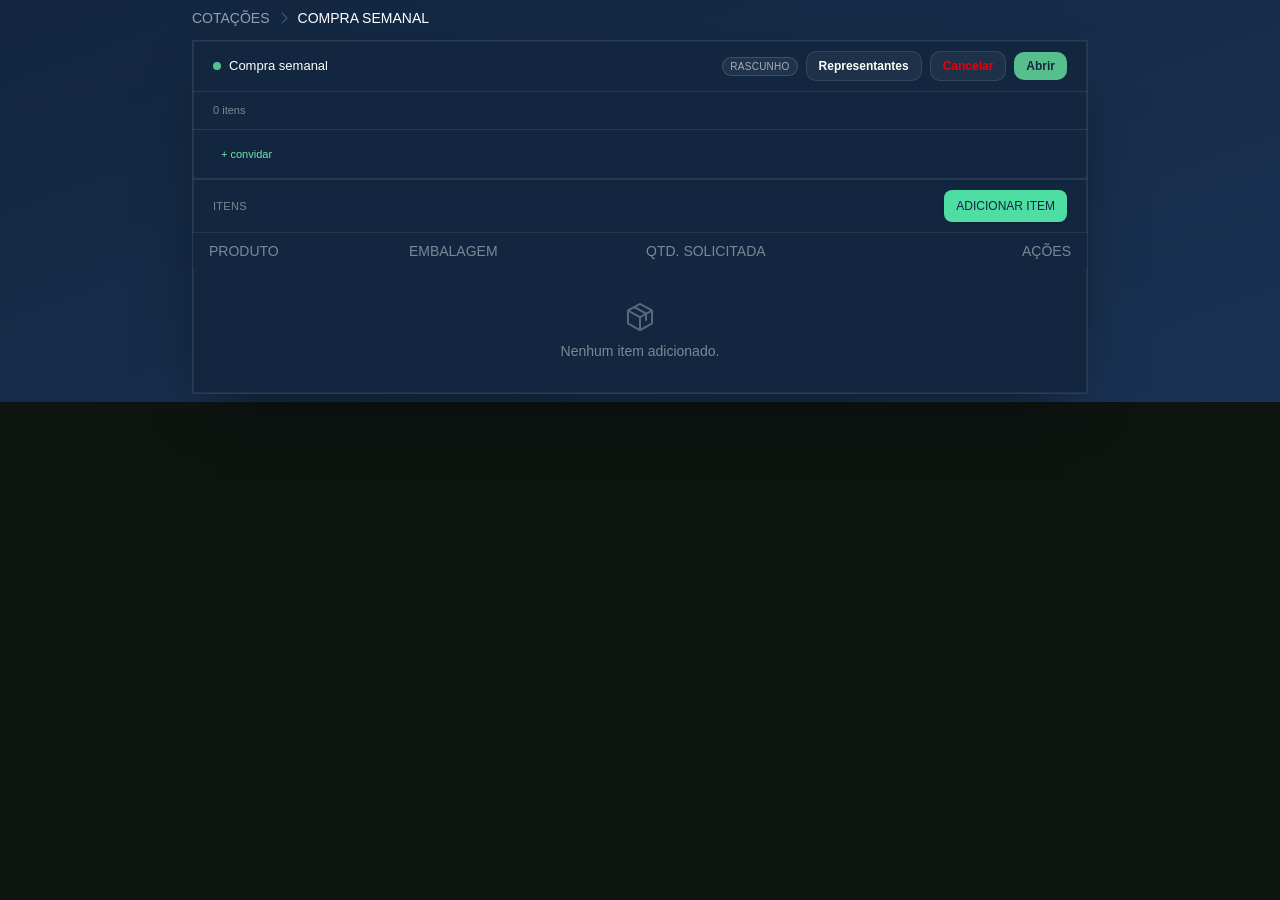
editar um produto no modal não perde os itens já adicionados à cotação
expect the heading "Compra semanal" is shown: met, box [229, 56, 328, 76]
Click the button "Adicionar item".
click(1006, 206)  # box [944, 190, 1067, 222]
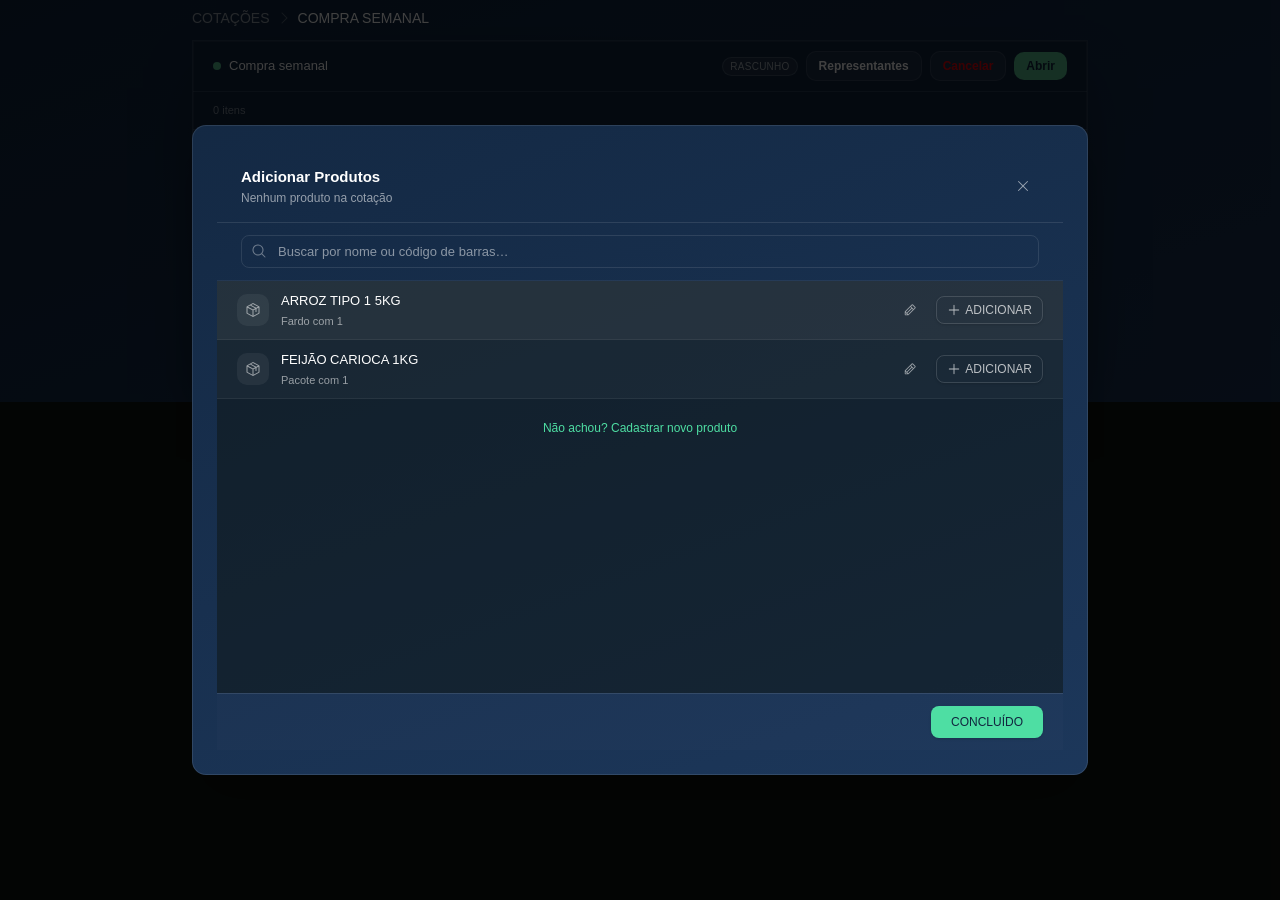
expect the text "Feijão Carioca 1kg" is shown: met, box [281, 352, 418, 367]
# Adiciona o Feijão à cotação (fica com o estado "Na cotação")
Click the button with aria-label "Adicionar Feijão Carioca 1kg à cotação".
click(990, 369)  # box [936, 355, 1043, 383]
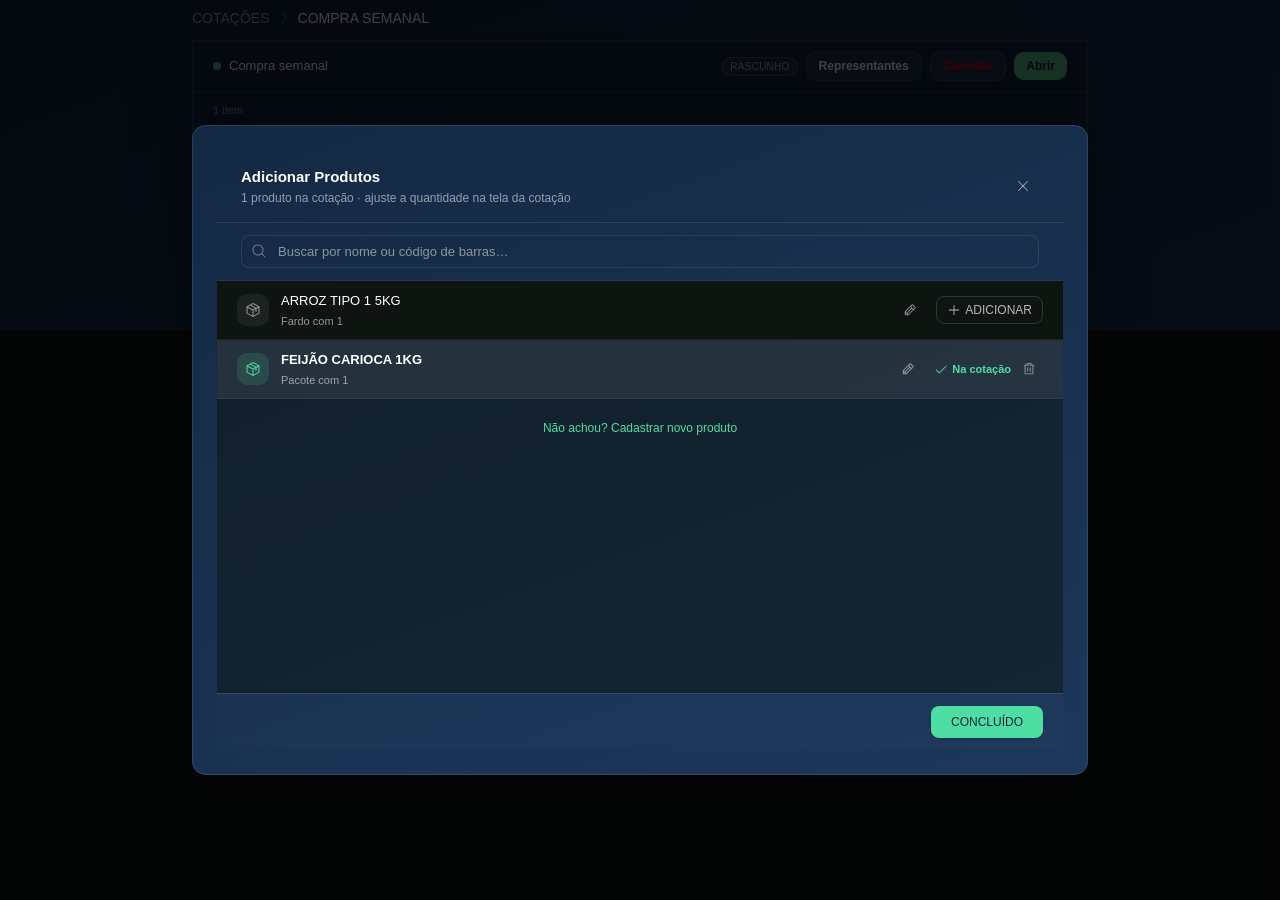
expect the text "Na cotação" is shown: met, box [934, 361, 1011, 377]
# Edita OUTRO produto (Arroz): o modal de produto abre empilhado, sem fechar a lista
Click the button named "Editar Arroz Tipo 1 5kg".
click(910, 310)  # box [896, 296, 924, 324]
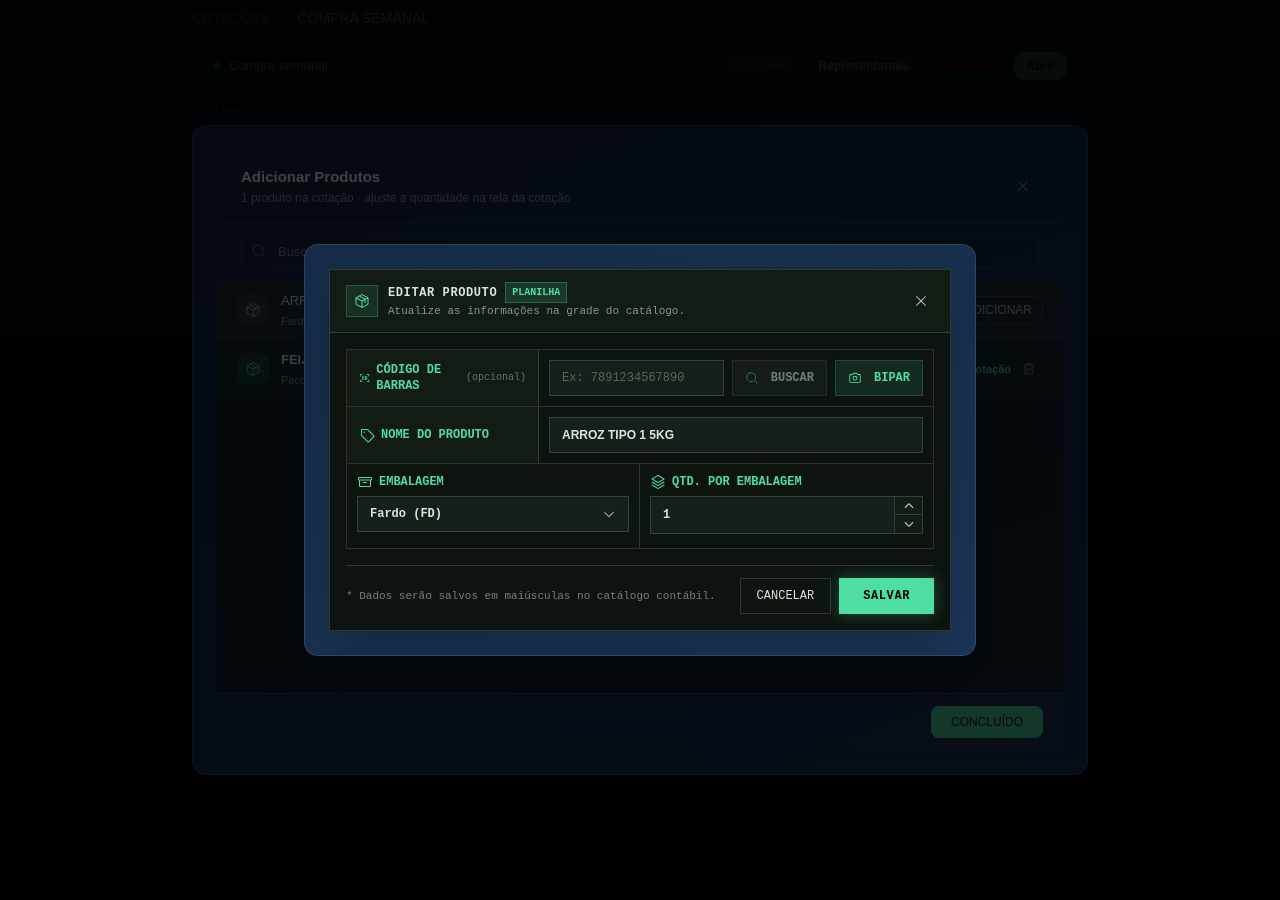
expect the dialog named "Cadastrar novo produto" shows "Editar Produto": met, box [388, 286, 497, 300]
Replace the text in the dropdown labelled "Nome do produto" with "Arroz Integral 5kg" at (736, 435), box [549, 417, 923, 453]
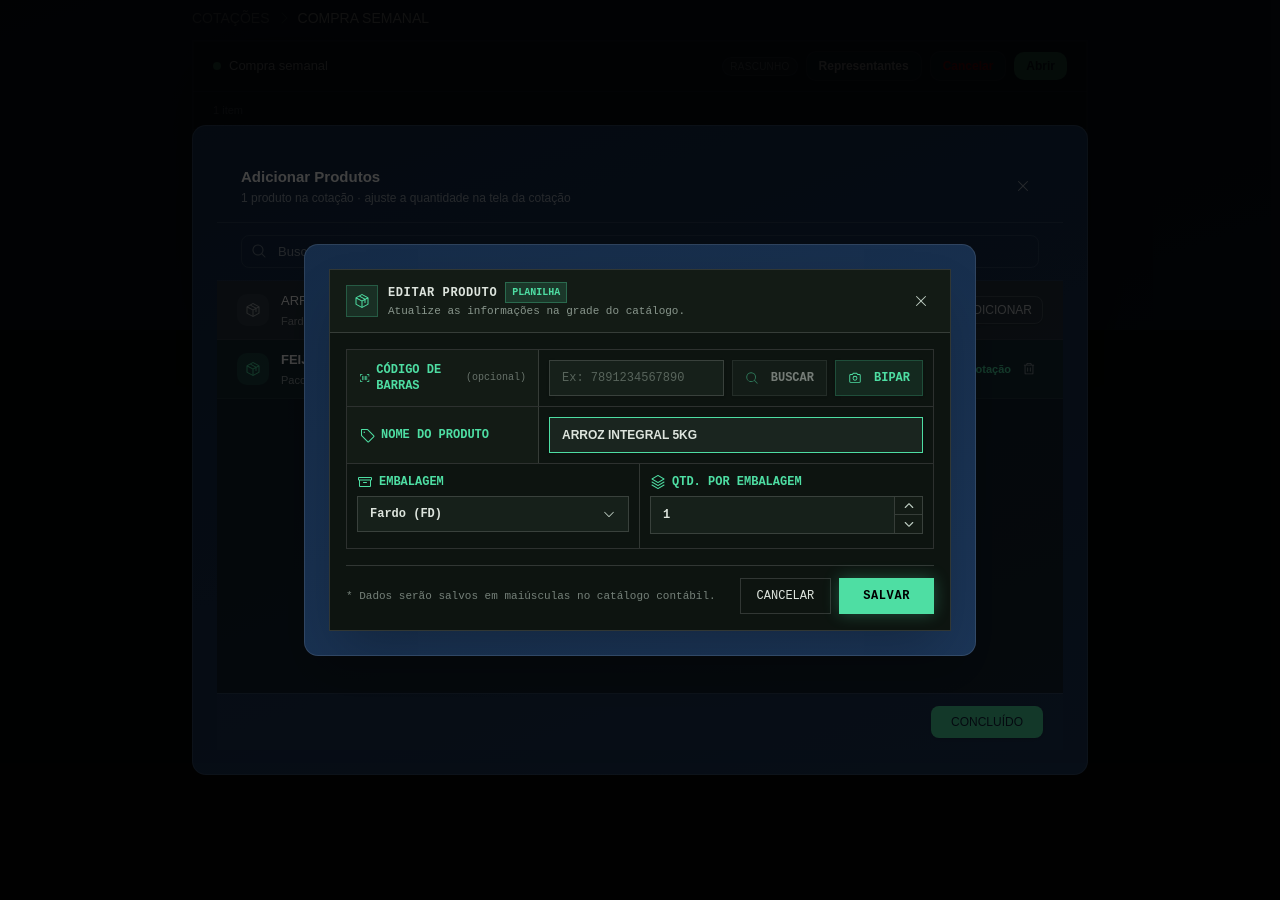
Click the button "Salvar".
click(887, 596)  # box [839, 578, 934, 614]
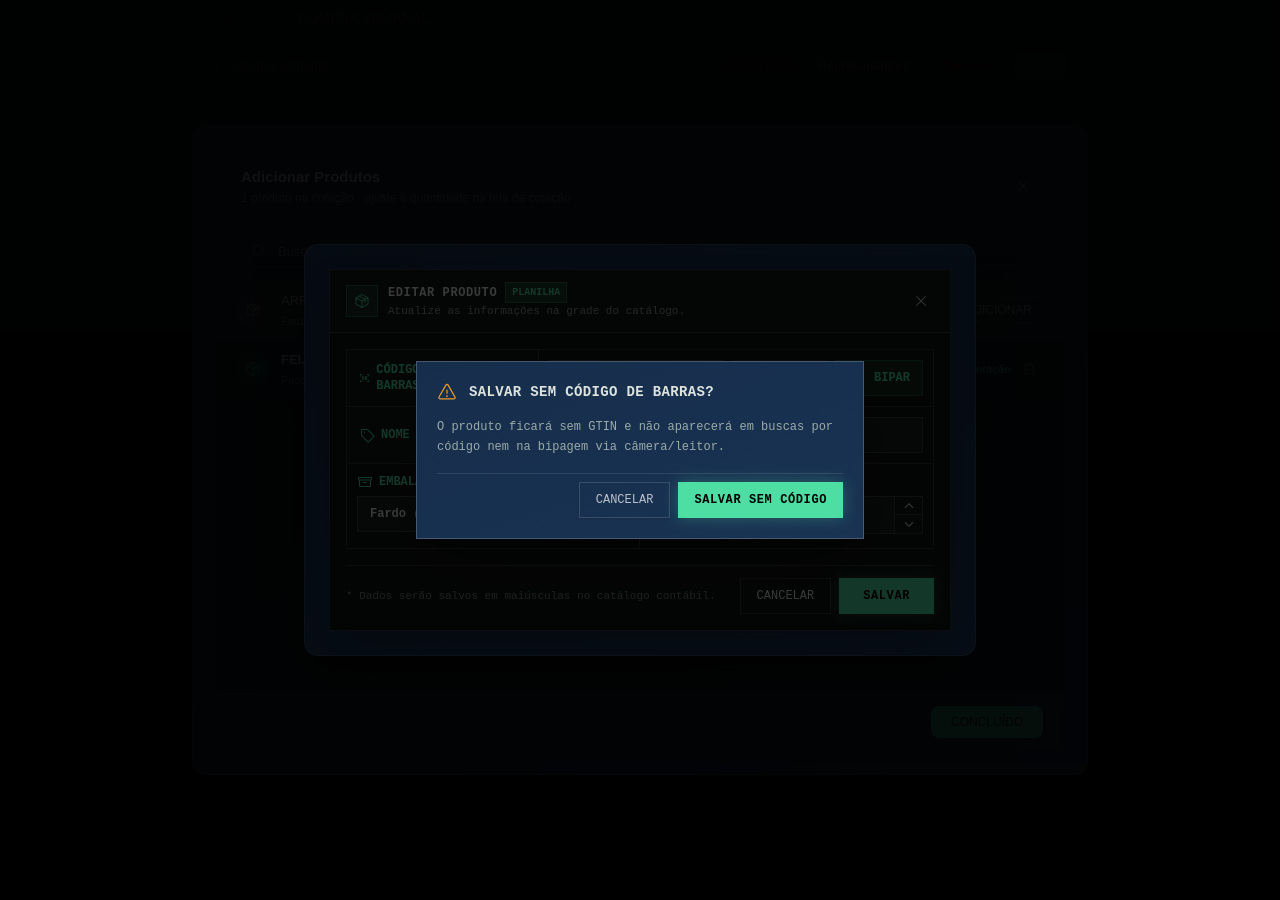
Click the button "Salvar sem código".
click(761, 500)  # box [678, 482, 843, 518]
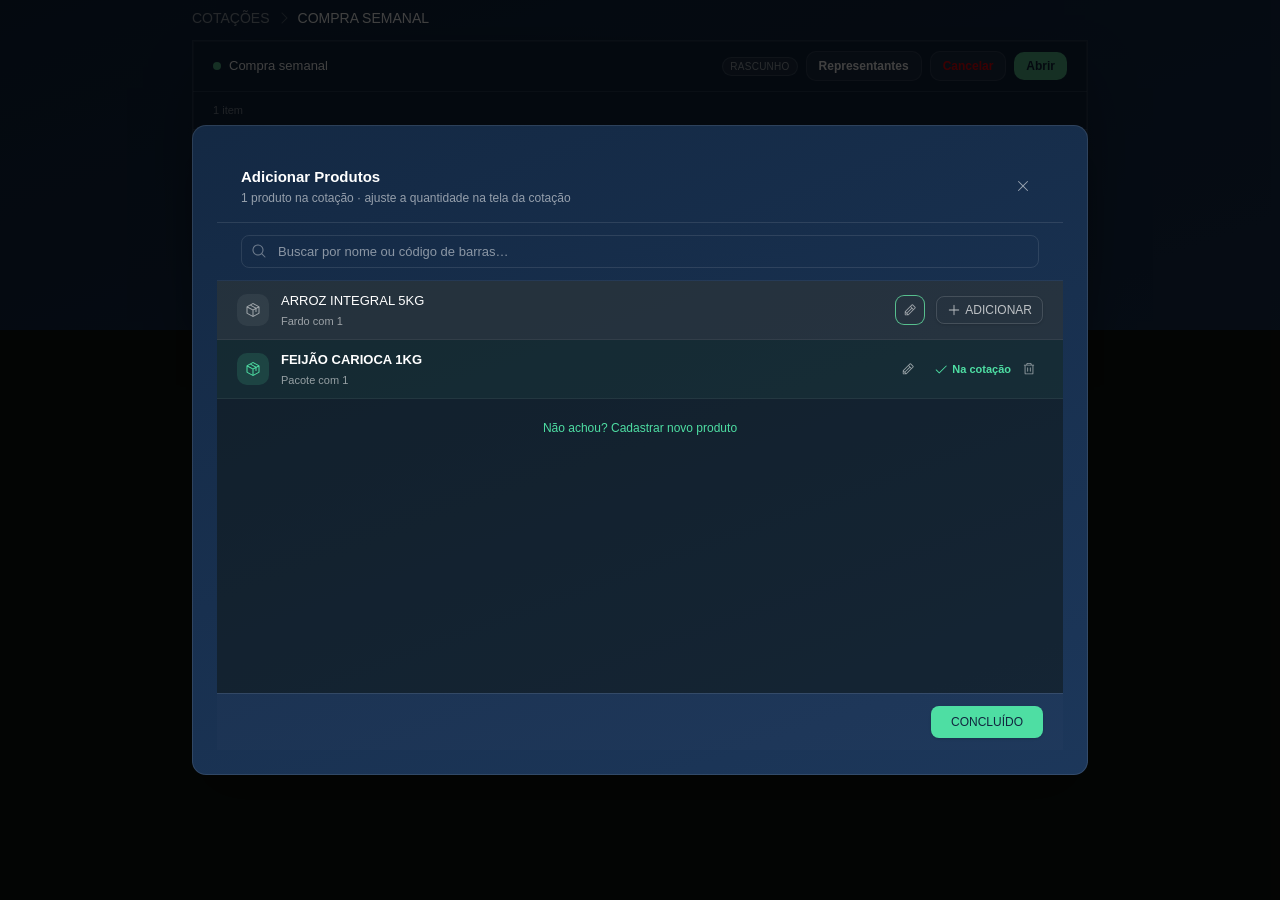
expect the text "Na cotação" is shown: met, box [934, 361, 1011, 377]
expect the text "ARROZ INTEGRAL 5KG" is shown: met, box [281, 293, 424, 308]
